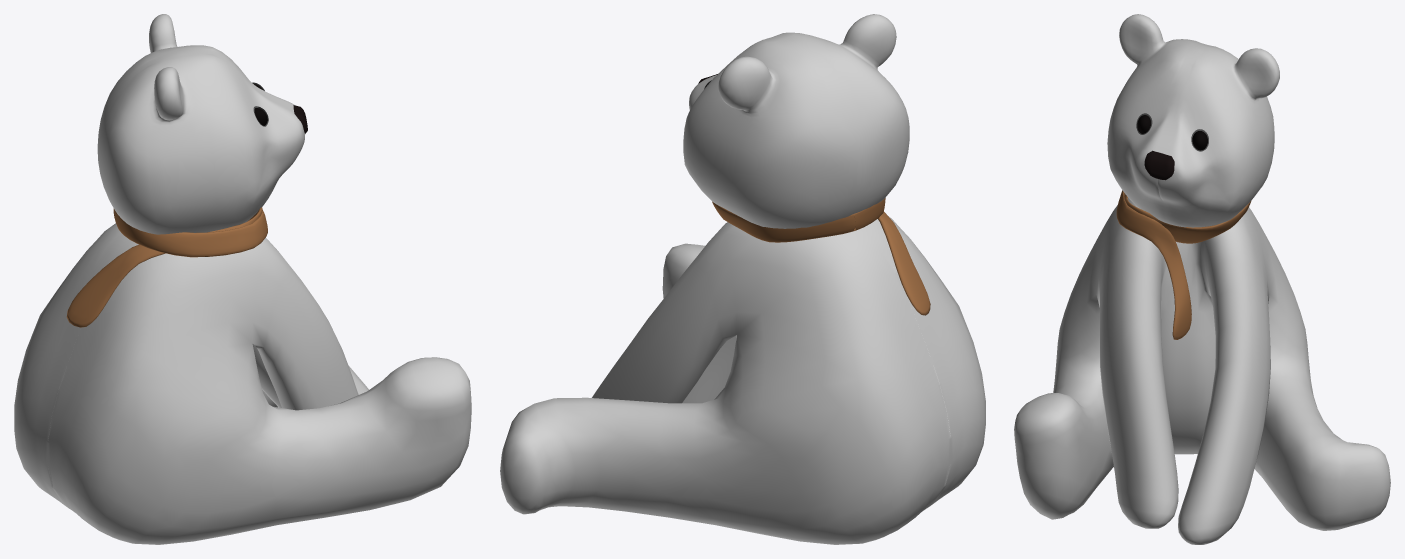
3 views of the same model, side by side, from view 1: azimuth 30°, elevation 25°; view 2: azimuth 150°, elevation 25°; view 3: azimuth 270°, elevation 25° (orthographic). The views are drawn at different scales.
Parts seen in each view (by area): view 1: Mesh1_Group1_Model; view 2: Mesh1_Group1_Model; view 3: Mesh1_Group1_Model.
Part boxes in pixels (x1=…): Mesh1_Group1_Model: x1=14, y1=14, x2=471, y2=544; Mesh1_Group1_Model: x1=500, y1=14, x2=985, y2=544; Mesh1_Group1_Model: x1=1014, y1=14, x2=1390, y2=544.
Bounding box in the file's own units: 0.8 × 1 × 0.8.
